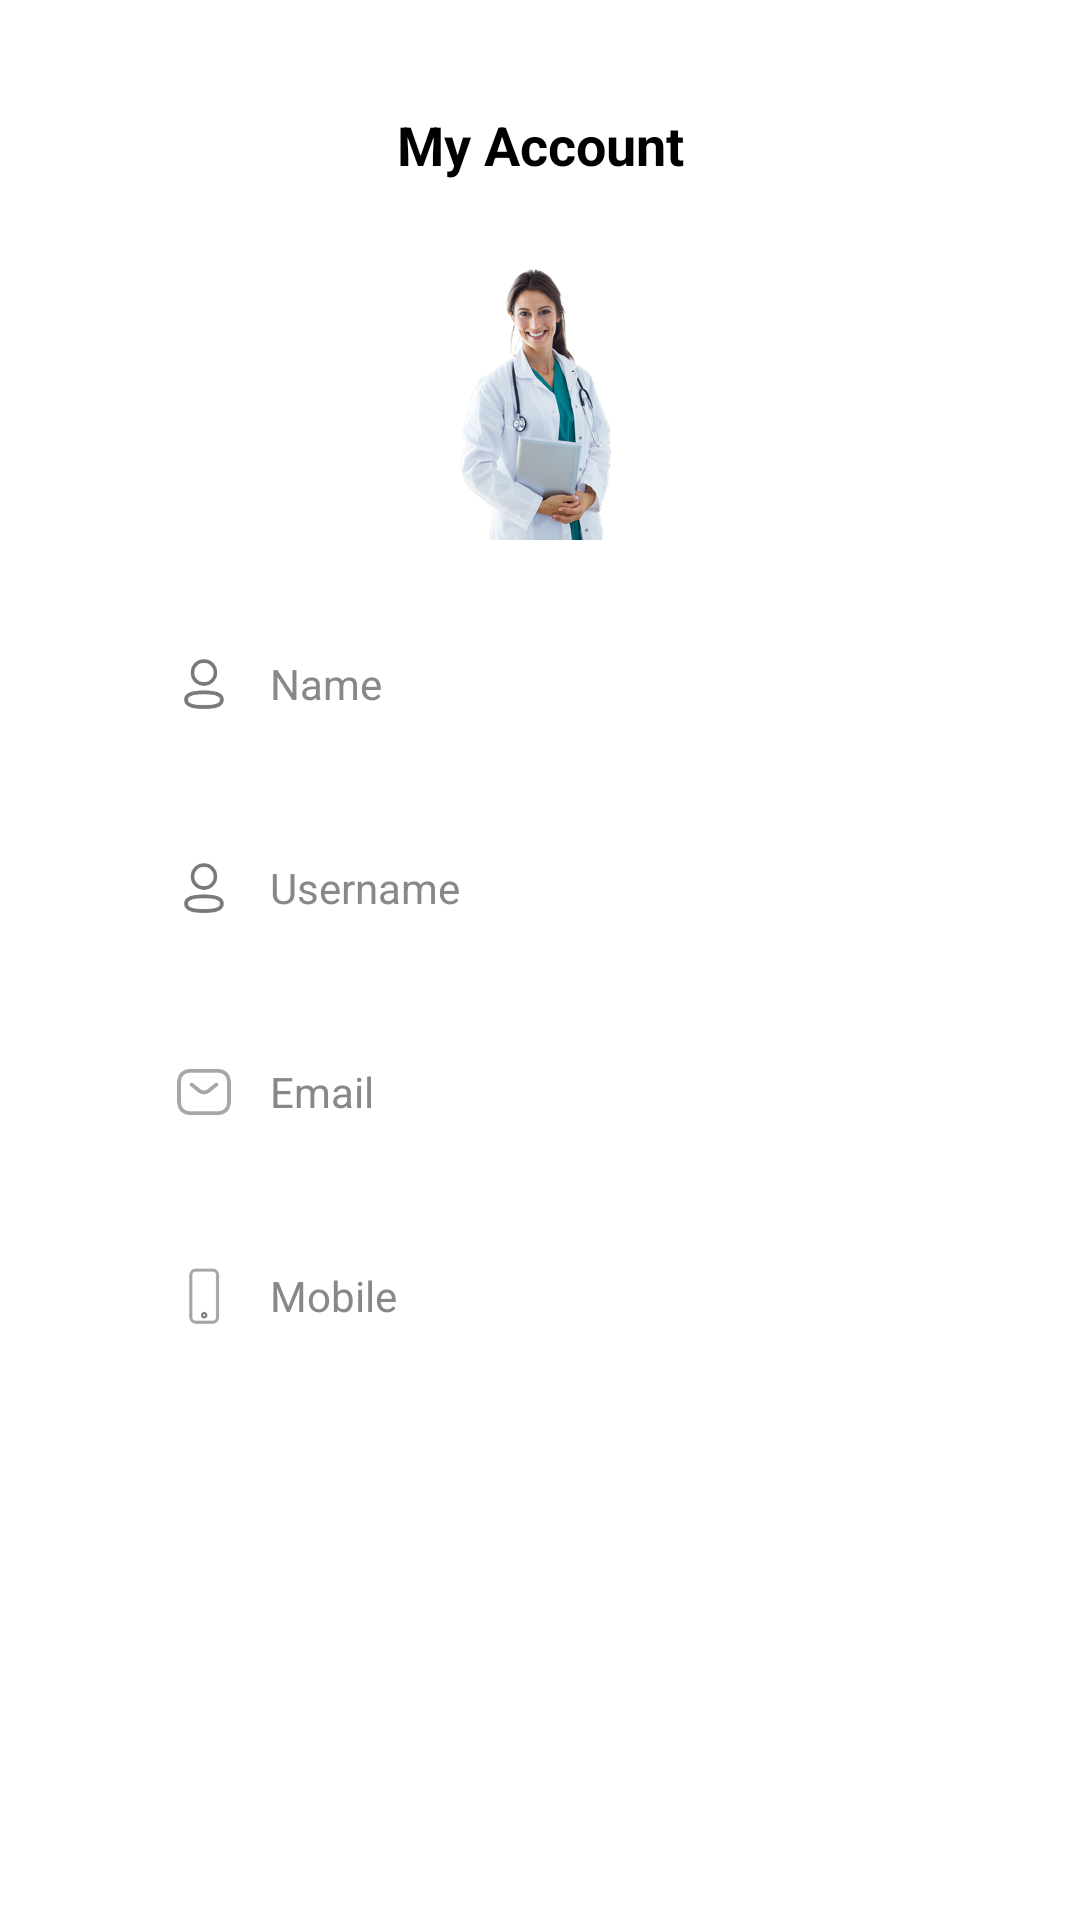

Locate icon controls on the screen. Image size 1080w x 1920h, boxes as [left=x1, top=y1, right=x2, bottom=y2].
doctor: [left=461, top=269, right=611, bottom=540]
